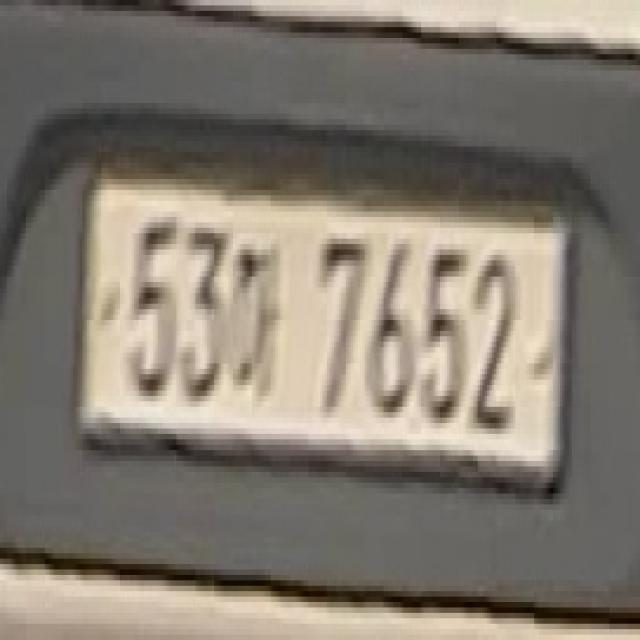2: (464, 244, 527, 456)
3: (183, 222, 230, 418)
5: (414, 233, 473, 429), (127, 206, 177, 407)
6: (370, 222, 414, 418)
7: (318, 233, 364, 418)
ha: (224, 206, 294, 407)
license_plate: (70, 157, 576, 499)
